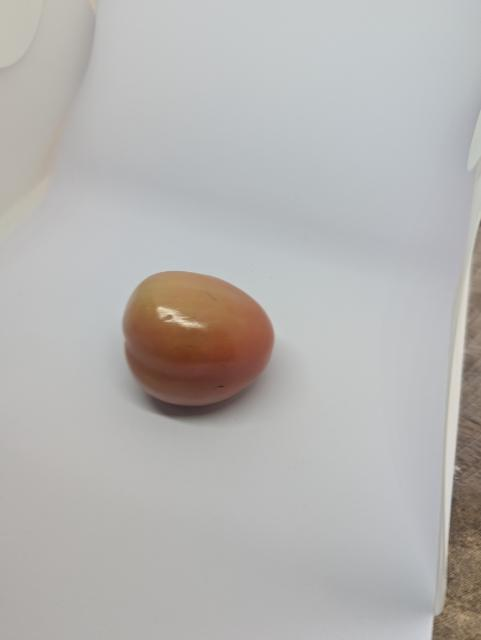turning: (116, 265, 282, 412)
